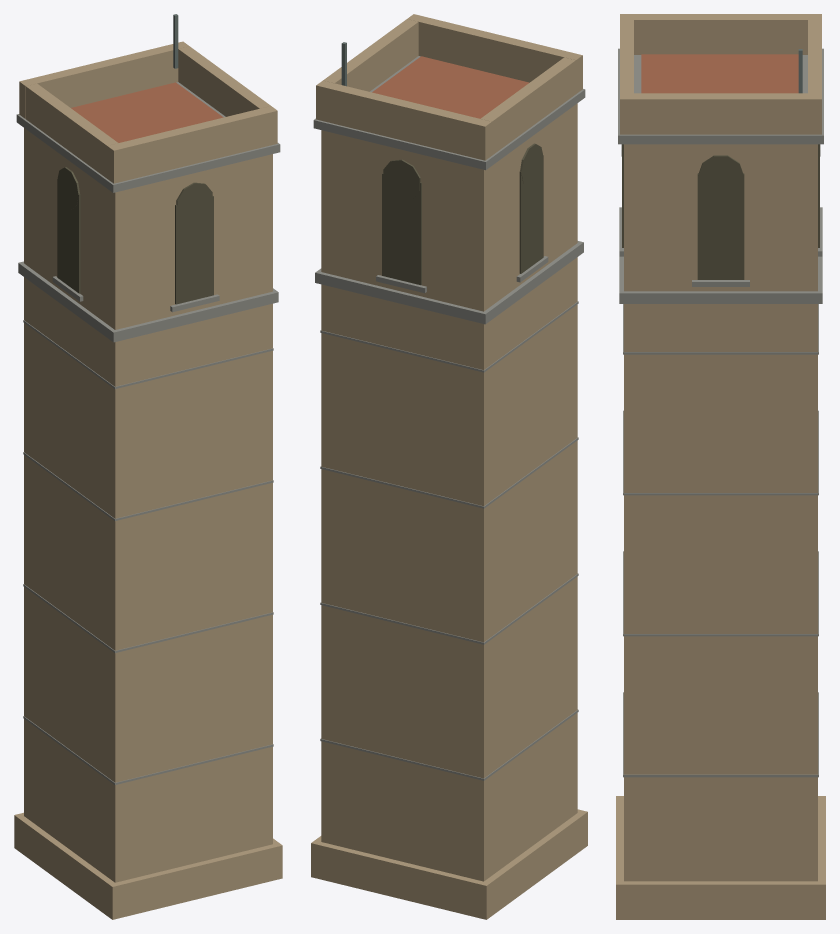
Rendered from SM_Campanario_v1_Silleria_LOD0.fbx.
3 renders of one model, left to right at view 1: azimuth 30°, elevation 25°; view 2: azimuth 150°, elevation 25°; view 3: azimuth 270°, elevation 25°, orthographic. The views are drawn at different scales.
Visible parts, largest first — view 1: SM_pueblo_valenciano_v21_LOD0; view 2: SM_pueblo_valenciano_v21_LOD0; view 3: SM_pueblo_valenciano_v21_LOD0.
Part boxes in pixels (x1=…): SM_pueblo_valenciano_v21_LOD0: x1=14, y1=14, x2=282, y2=919; SM_pueblo_valenciano_v21_LOD0: x1=311, y1=14, x2=587, y2=919; SM_pueblo_valenciano_v21_LOD0: x1=616, y1=14, x2=825, y2=919.
Size of the model in its own units: 5.4 by 24.4 by 5.4.
